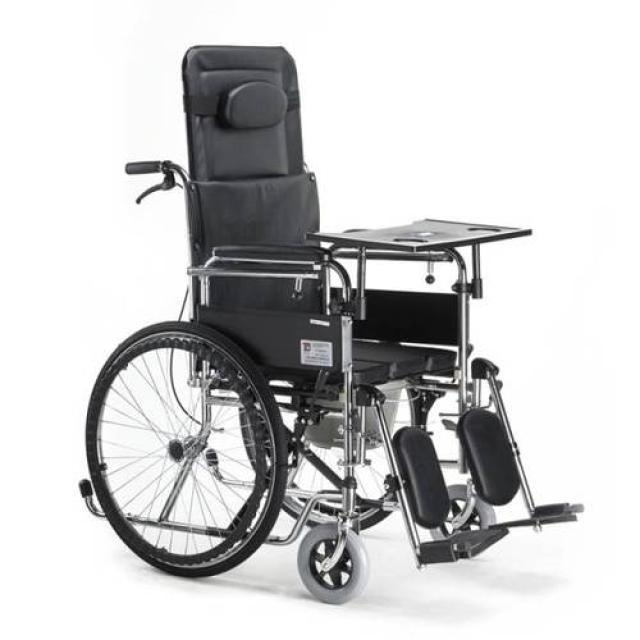wheelchairs: (53, 35, 599, 612)
